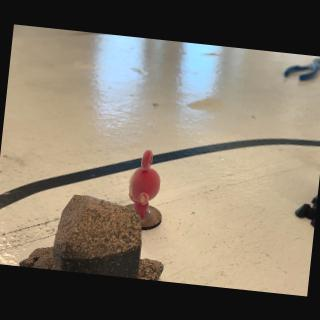teletubby: (128, 150, 160, 219)
